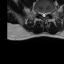CCS_severe_stenosis: (43, 11, 44, 18)
LFS_stenosis: (46, 10, 49, 16)
LLS_normal: (44, 11, 46, 18)
RFS_normal: (39, 9, 41, 16)
RLS_normal: (41, 11, 43, 18)
